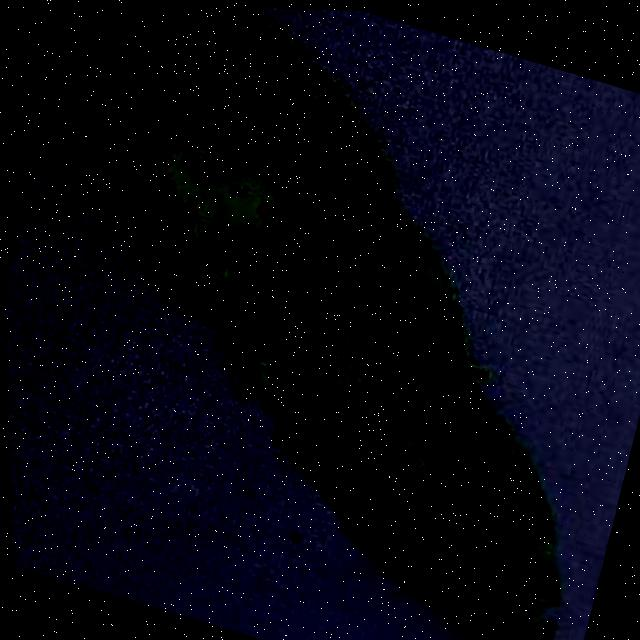Bacterial_spot: (225, 170, 304, 235), (372, 477, 425, 540), (174, 189, 214, 227), (149, 143, 184, 179), (175, 130, 206, 167)
